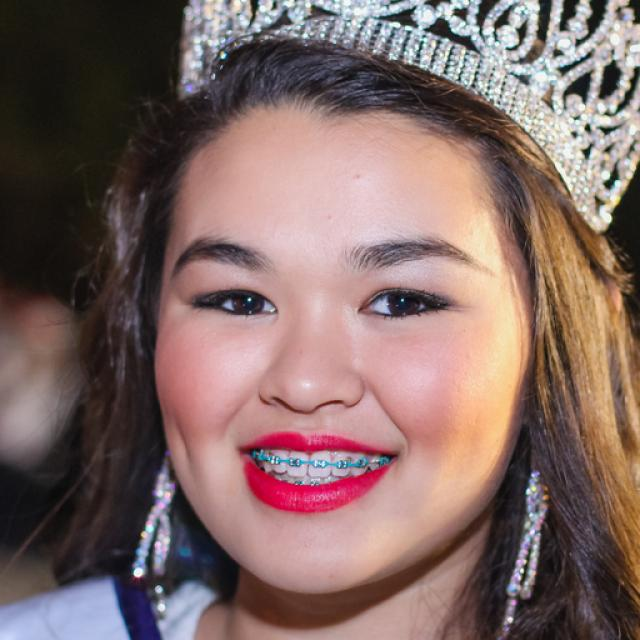Acne: (319, 206, 339, 228), (349, 167, 369, 188)
